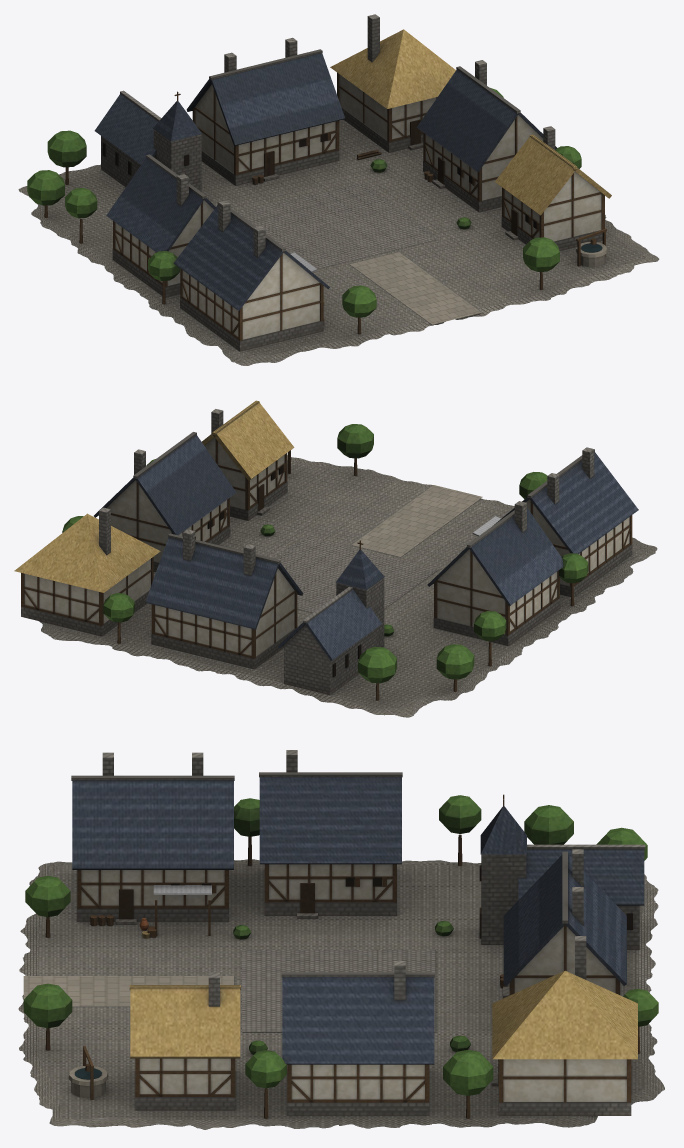
Rendered from kingdoms-town-small-a.glb.
3 renders of one model, top to bottom at view 1: azimuth 30°, elevation 25°; view 2: azimuth 150°, elevation 25°; view 3: azimuth 270°, elevation 25°, orthographic. The views are drawn at different scales.
Visible parts, largest first — view 1: LOD0; view 2: LOD0; view 3: LOD0.
Boxes of the visible parts, x1=… form: LOD0: x1=18, y1=14, x2=659, y2=365; LOD0: x1=14, y1=400, x2=657, y2=717; LOD0: x1=18, y1=750, x2=664, y2=1129.
Size of what is drawn, in the model's own units: 4.02 by 0.99 by 4.06.
Materials: 3 (3 with a texture image).
